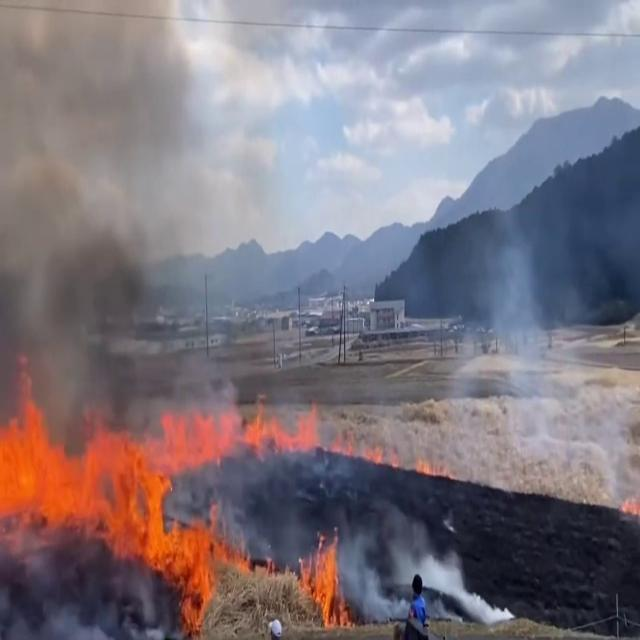Fire: (0, 388, 244, 618), (160, 396, 317, 462), (298, 521, 348, 629)
Smoke: (0, 1, 228, 428), (478, 210, 550, 370)
